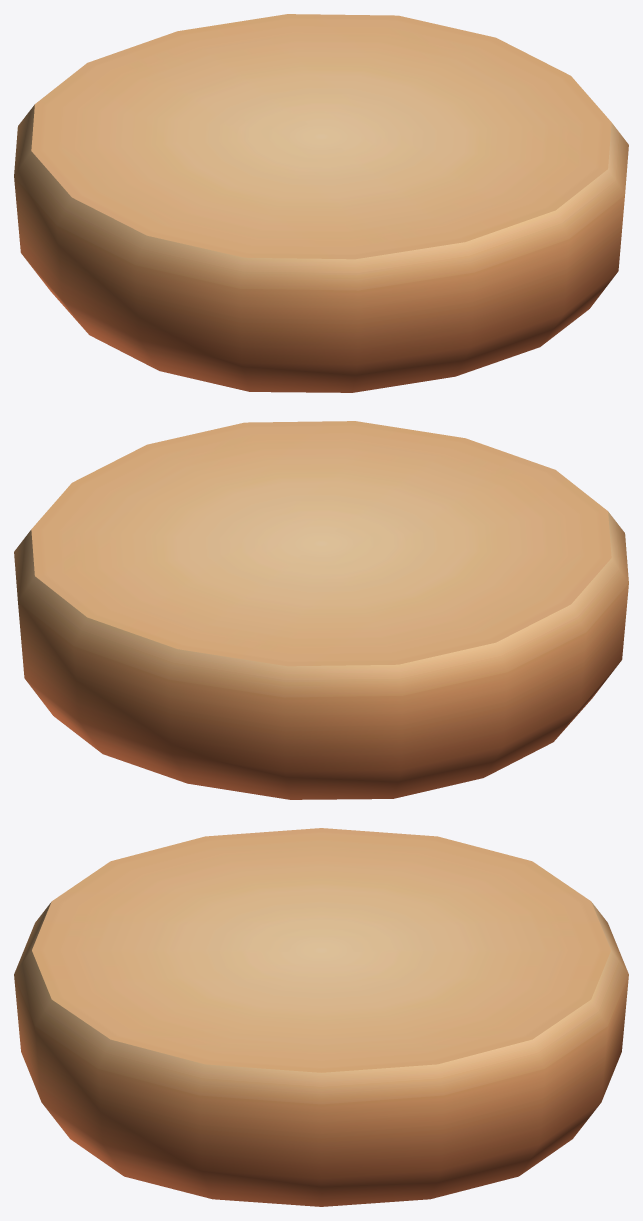
The model's file is food-ingredient-bun-bottom.glb.
3 views of the same model, one above another, from view 1: azimuth 30°, elevation 25°; view 2: azimuth 150°, elevation 25°; view 3: azimuth 270°, elevation 25° (orthographic).
Visible parts, largest first — view 1: food_ingredient_bun_bottom; view 2: food_ingredient_bun_bottom; view 3: food_ingredient_bun_bottom.
Boxes of the visible parts, x1=… form: food_ingredient_bun_bottom: x1=14, y1=14, x2=628, y2=392; food_ingredient_bun_bottom: x1=14, y1=421, x2=628, y2=799; food_ingredient_bun_bottom: x1=14, y1=828, x2=628, y2=1206.
Size of the model in its own units: 0.6938 by 0.2 by 0.6938.
Materials: 1 (1 with a texture image).
